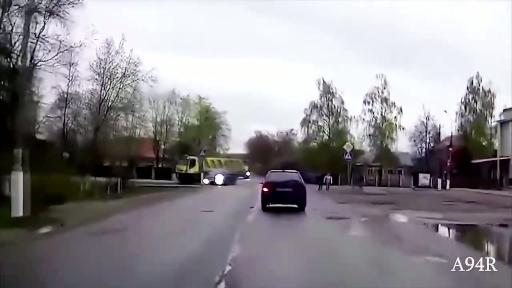Accident: (63, 88, 262, 202)
